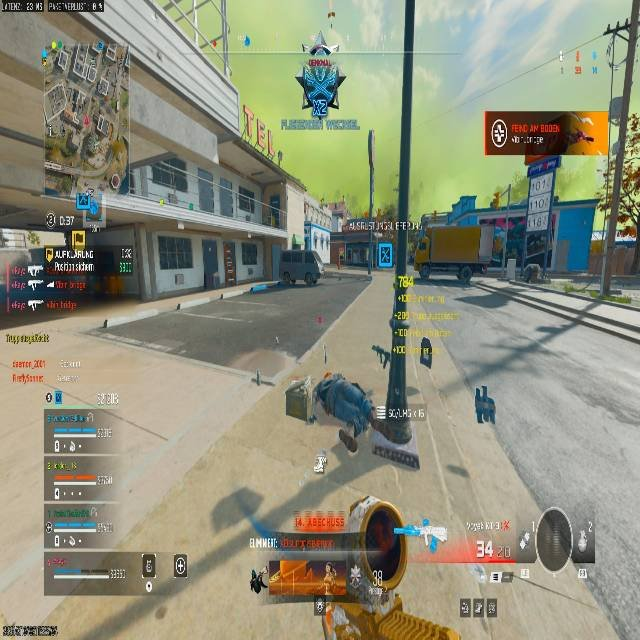player: (294, 41, 347, 117), (337, 253, 343, 269)
